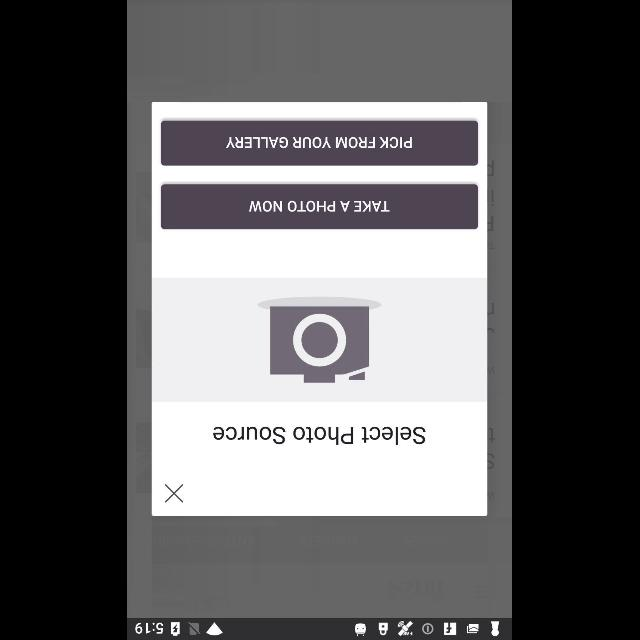icon: (166, 483, 184, 502)
image: (258, 297, 382, 383)
panel: (152, 102, 488, 516)
text: (214, 426, 426, 444)
textbutton: (162, 120, 478, 166), (162, 184, 478, 230)
uppertaskbar: (128, 617, 512, 639)
